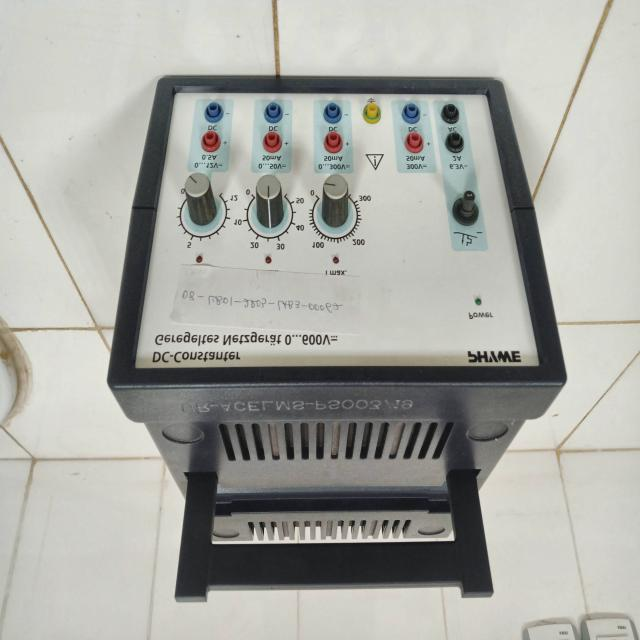DC Constant Power Supply 0-600V: (103, 71, 568, 428)
